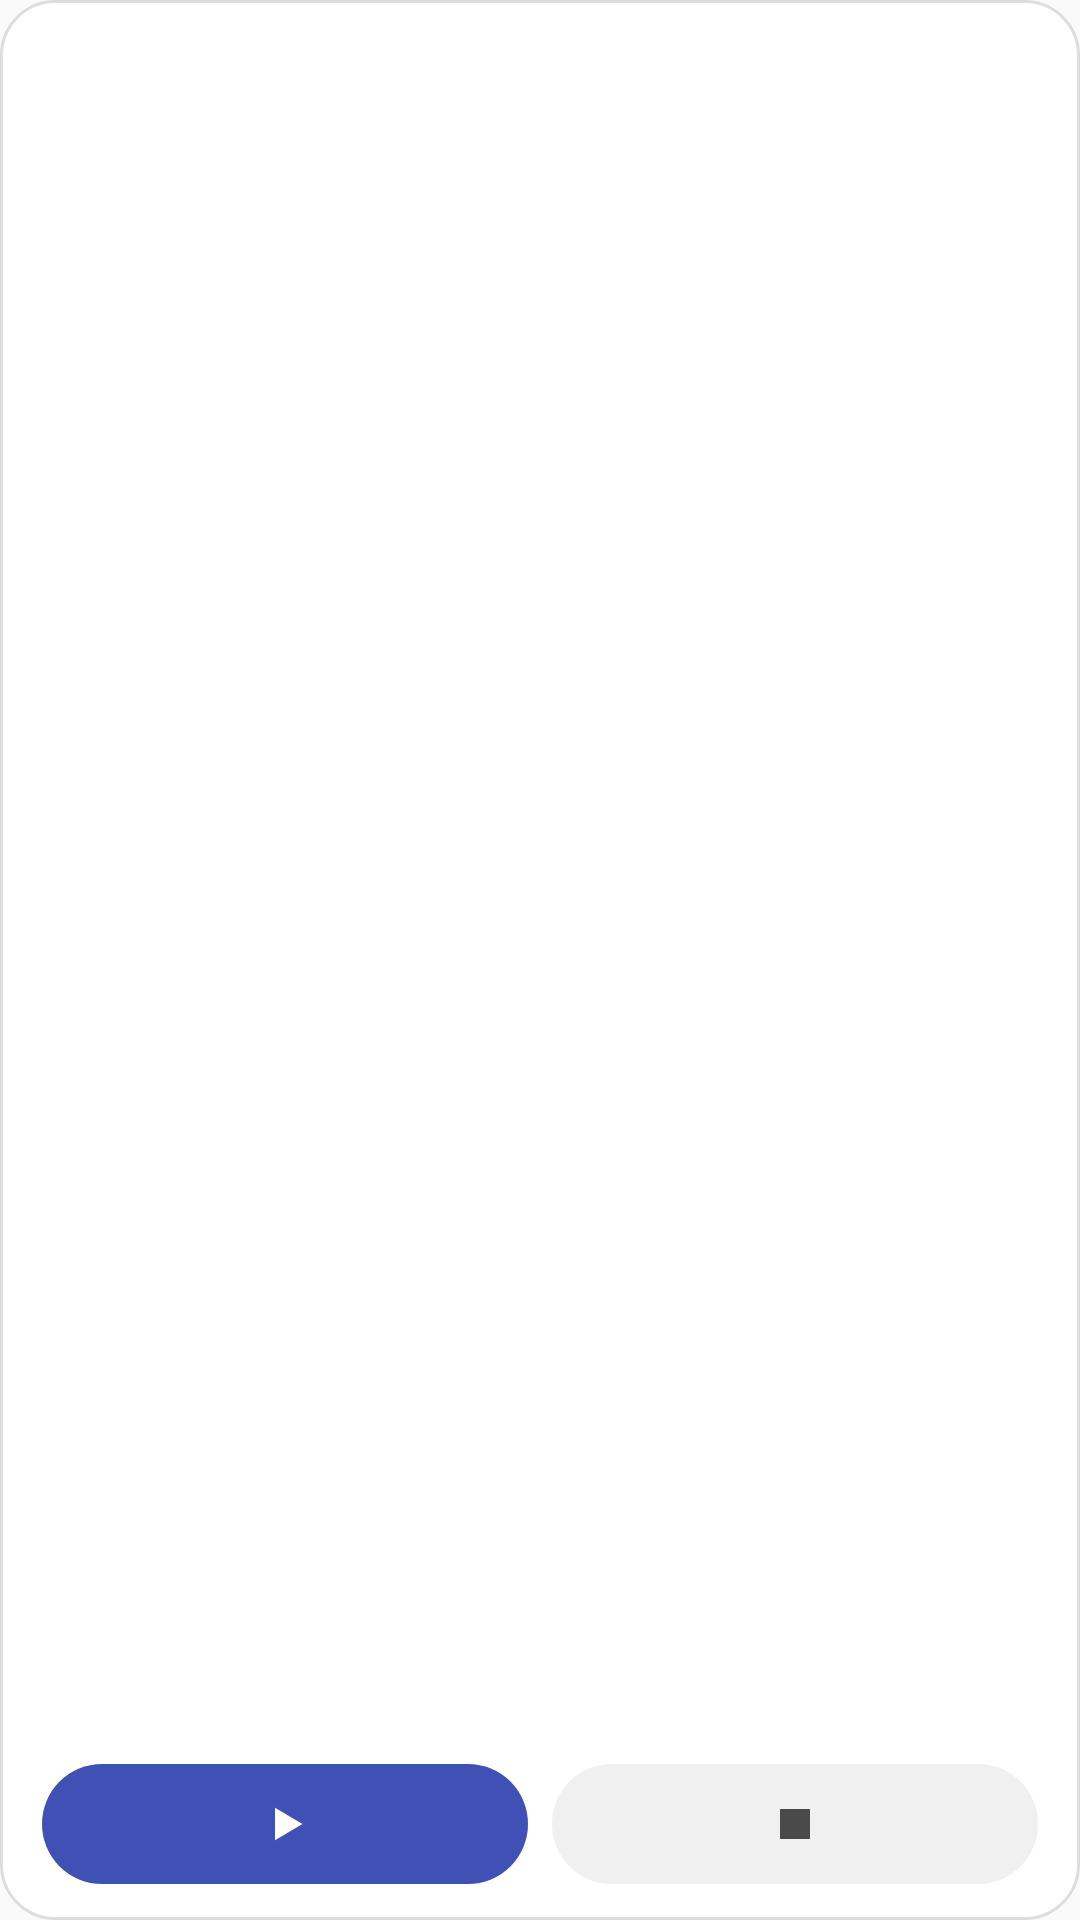

Named icons in this screenshot (1080w x 1920h) and their bounding boxes, (x1, y1, x2, y2):
play: (275, 1808, 302, 1840)
